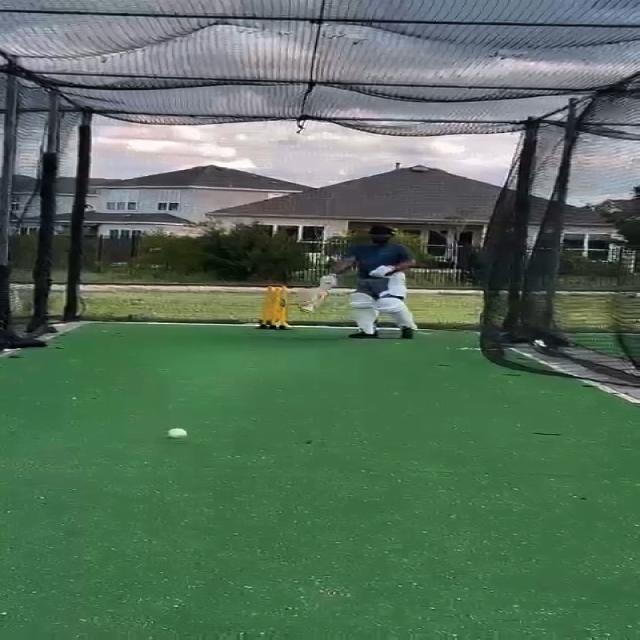batsman: (296, 223, 422, 342)
